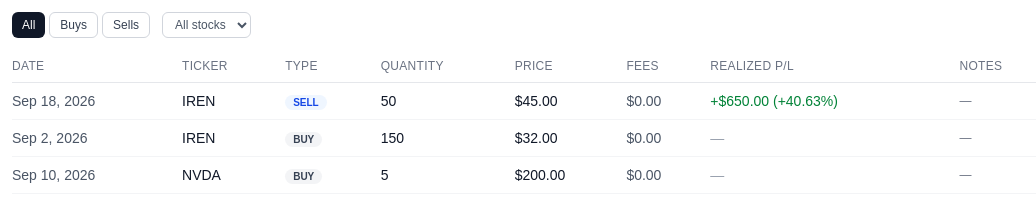
it: TransactionHistory › filters to sells only
Click the button "Sells".
click(126, 25)  # box [102,12,150,38]
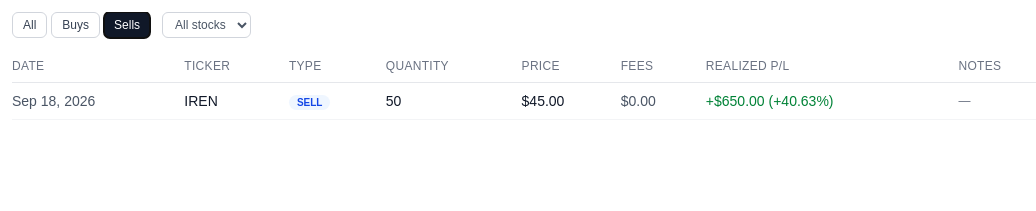
Expected: the row with test id "transaction-2" is shown, [12,82,1035,120]
Result: the row with test id "transaction-1" is gone
